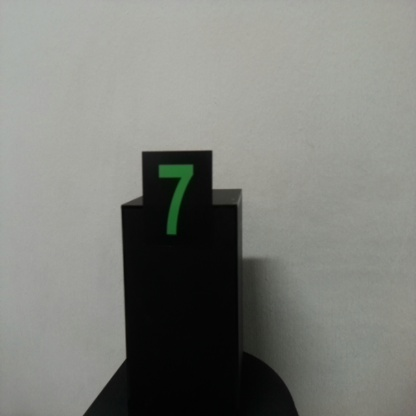id_7: (142, 152, 213, 252)
